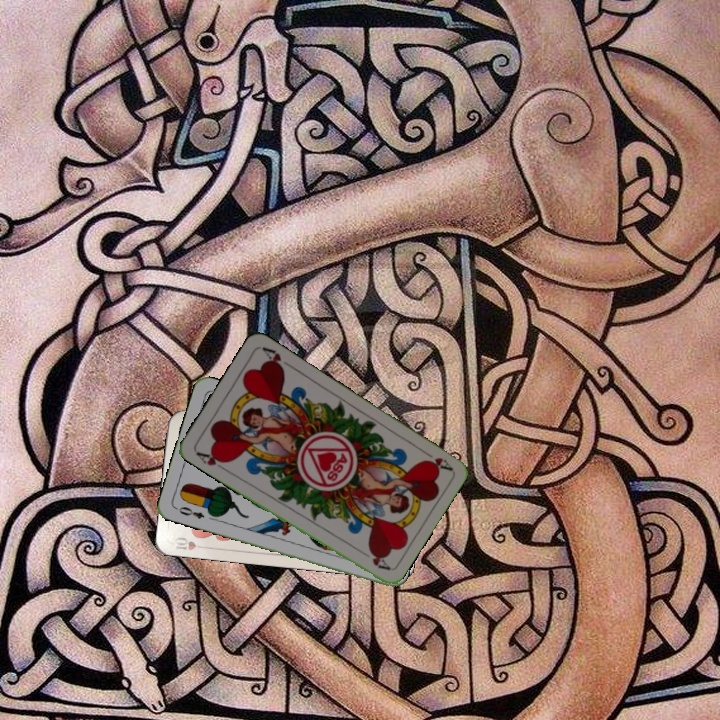EO: (172, 502, 207, 521)
H10: (171, 532, 210, 553)
HA: (192, 447, 230, 474), (417, 446, 454, 473)
